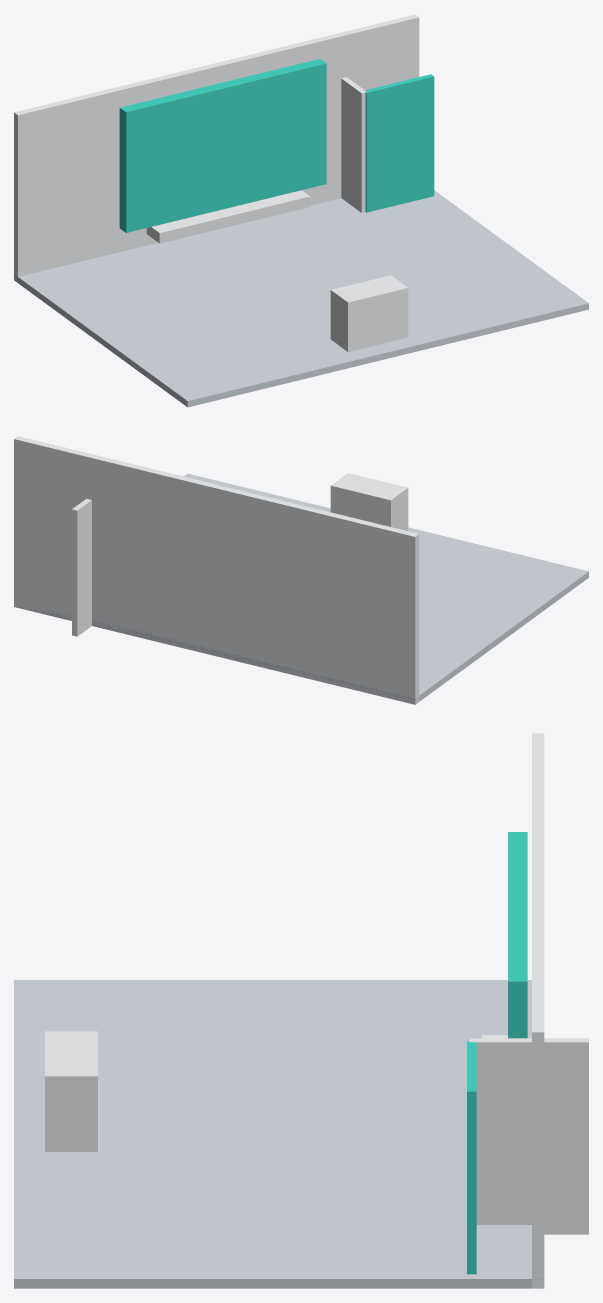
3 views of the same model, one above another, from view 1: azimuth 30°, elevation 25°; view 2: azimuth 150°, elevation 25°; view 3: azimuth 270°, elevation 25° (orthographic). The views are drawn at different scales.
Visible parts, largest first — view 1: Exhibition Booth Concept; view 2: Exhibition Booth Concept; view 3: Exhibition Booth Concept.
Boxes of the visible parts, box(x1,y1,x2,y2) form: Exhibition Booth Concept: box(14, 14, 588, 407); Exhibition Booth Concept: box(14, 436, 588, 704); Exhibition Booth Concept: box(14, 733, 588, 1288).
Size of the model in its own units: 8 by 3.2 by 6.51.
